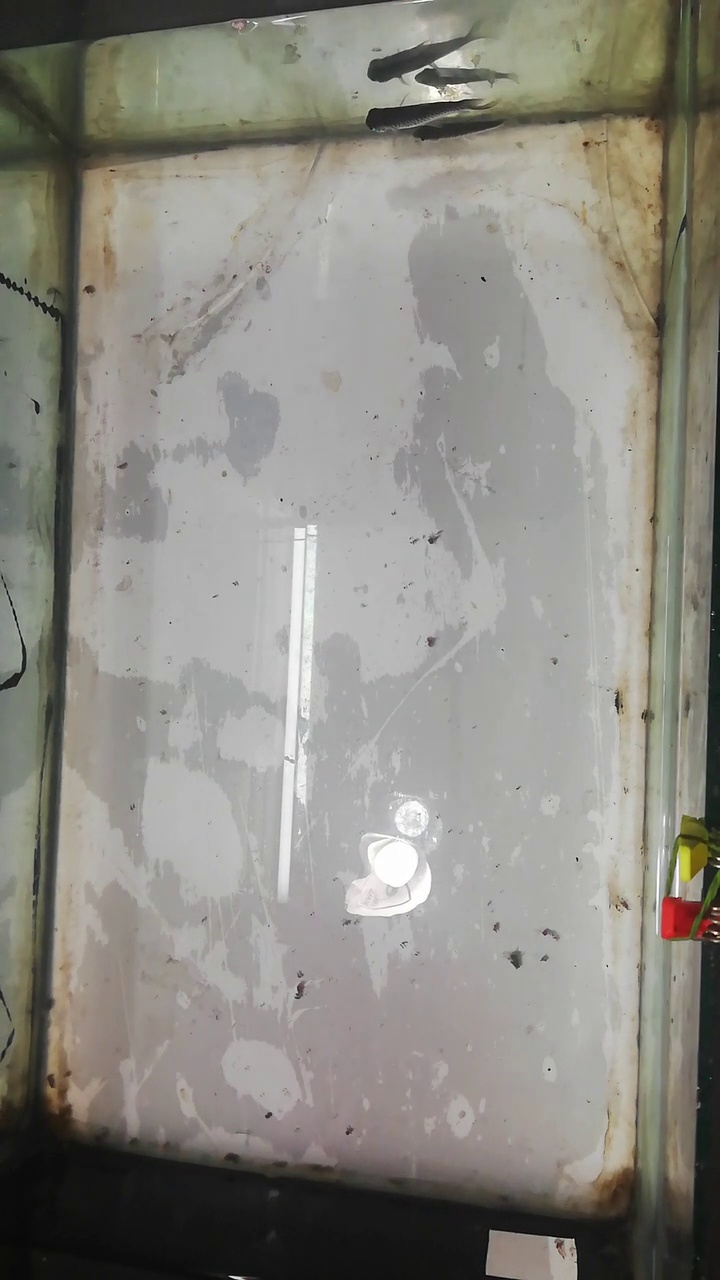fish1: (364, 100, 487, 124)
fish2: (415, 120, 506, 140)
